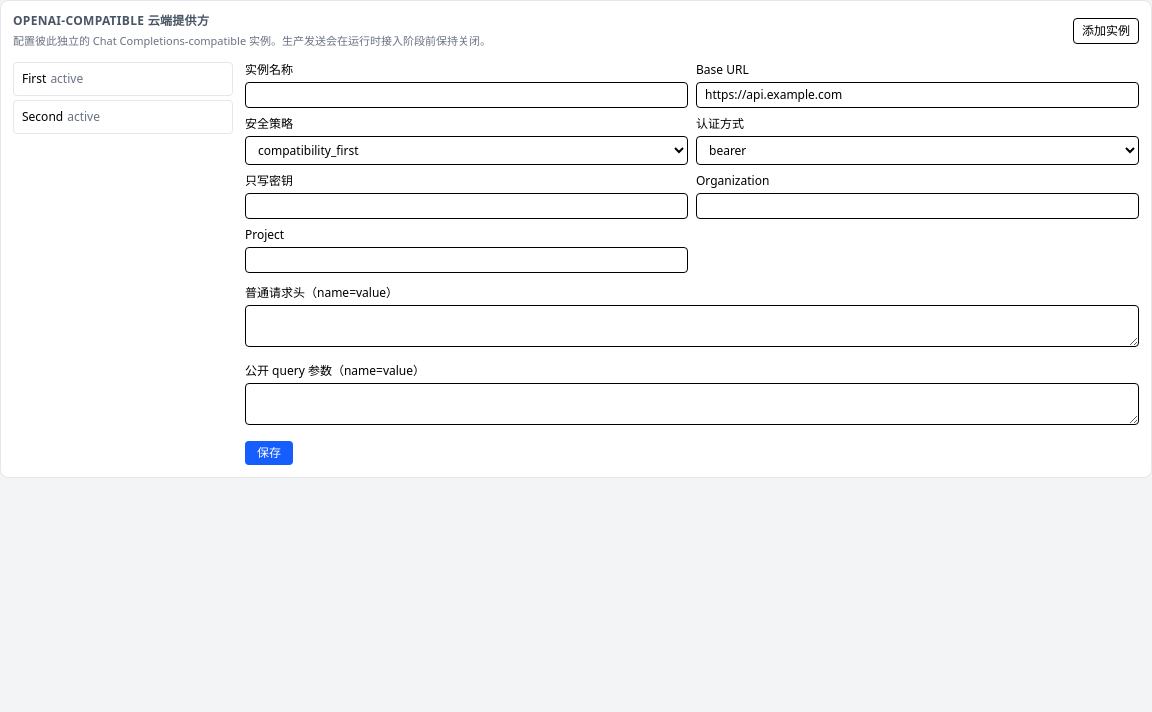
Test: CompatibleProviderSettingsPanel › warns explicitly for insecure HTTP without changing the selected security policy
Click the text "First" at (34,78), box top-left (22, 70), bottom-right (46, 86)
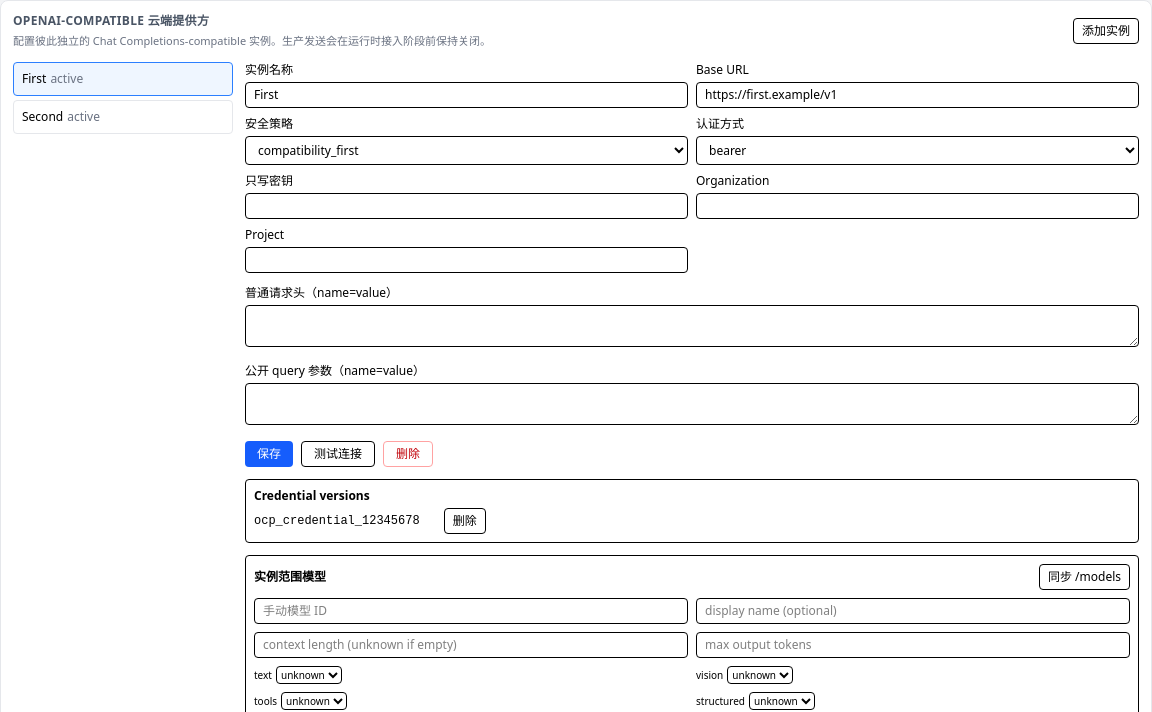
Replace the text in the field with test id "compatible-base-url" with "http://lan.example/v1" at (918,94), box top-left (696, 82), bottom-right (1139, 108)
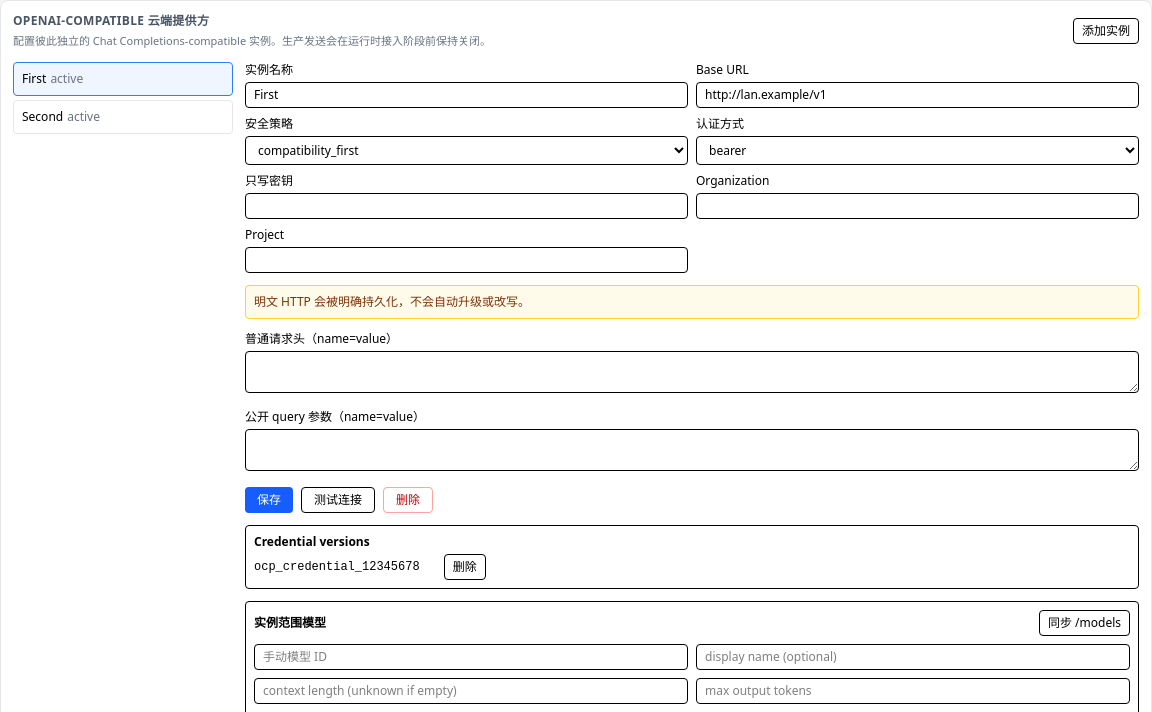
Now the text "明文 HTTP 会被明确持久化，不会自动升级或改写。" is shown, box top-left (245, 284), bottom-right (1139, 318)
